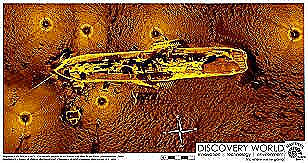ship: (26, 38, 248, 93)
